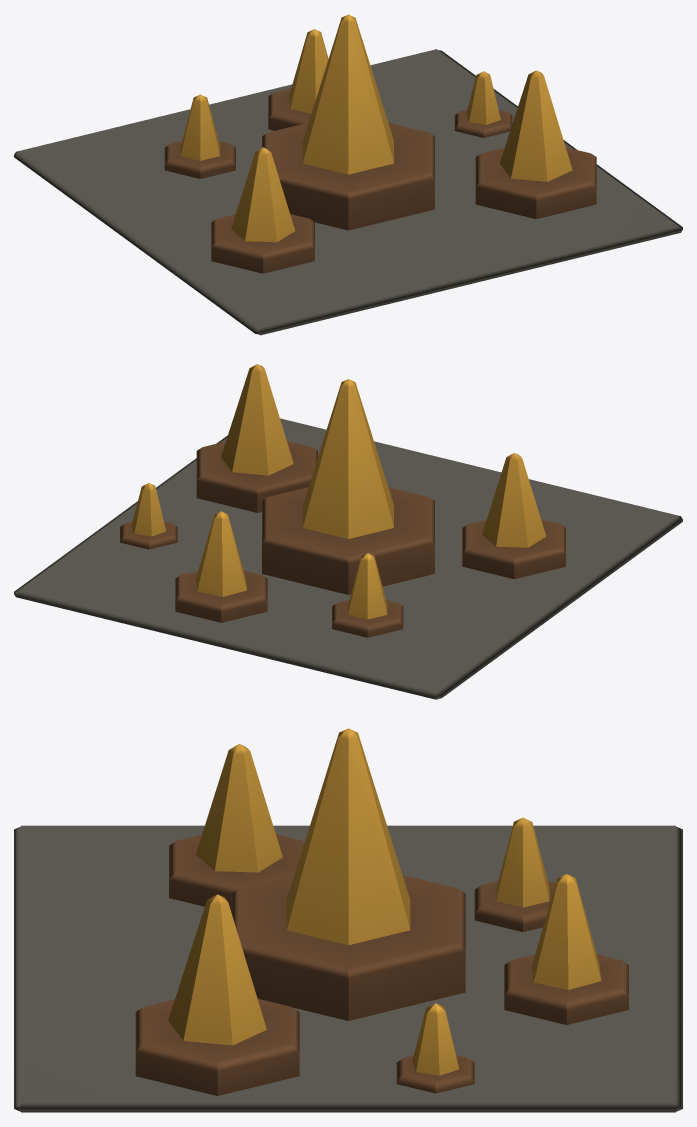
Rendered from ore_field.glb.
The picture shows the model from 3 angles, top to bottom: view 1: azimuth 30°, elevation 25°; view 2: azimuth 150°, elevation 25°; view 3: azimuth 270°, elevation 25°; orthographic projection. The views are drawn at different scales.
Parts seen in each view (by area): view 1: Body; view 2: Body; view 3: Body.
Part boxes in pixels (left/top/right/bottom): Body: left=14, top=14, right=682, bottom=335; Body: left=14, top=364, right=682, bottom=699; Body: left=14, top=728, right=682, bottom=1112.
Size of the model in its own units: 4.6 by 1.87 by 4.6.
